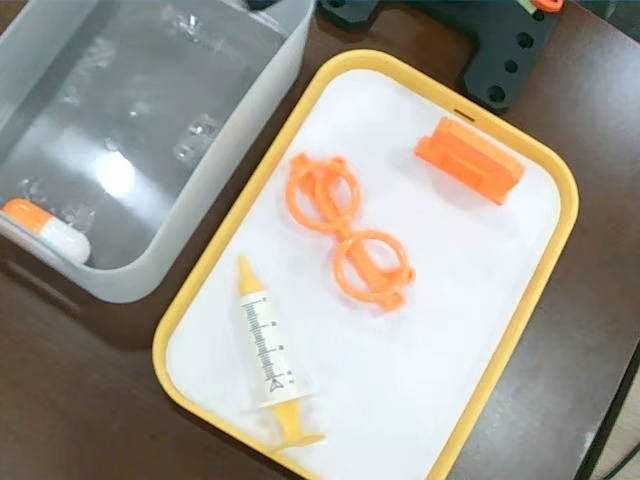pill: (1, 196, 92, 267)
syringe: (231, 255, 325, 463)
